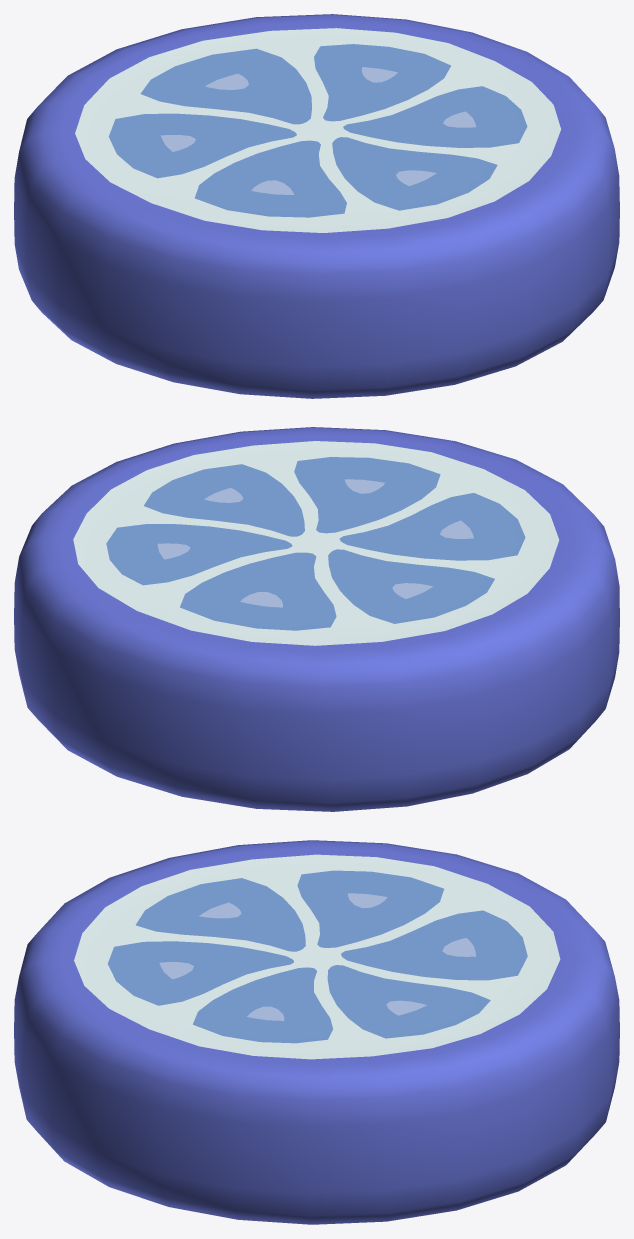
File: Gummy_C_03.fbx
3 views of the same model, one above another, from view 1: azimuth 30°, elevation 25°; view 2: azimuth 150°, elevation 25°; view 3: azimuth 270°, elevation 25° (orthographic).
Parts seen in each view (by area): view 1: Gummy_C_03_LOD0; view 2: Gummy_C_03_LOD0; view 3: Gummy_C_03_LOD0.
Boxes of the visible parts, <box> form: Gummy_C_03_LOD0: <box>14,14,619,398</box>; Gummy_C_03_LOD0: <box>14,427,619,811</box>; Gummy_C_03_LOD0: <box>14,840,619,1224</box>.
Size of what is drawn, in the model's own units: 512 by 143 by 513.
